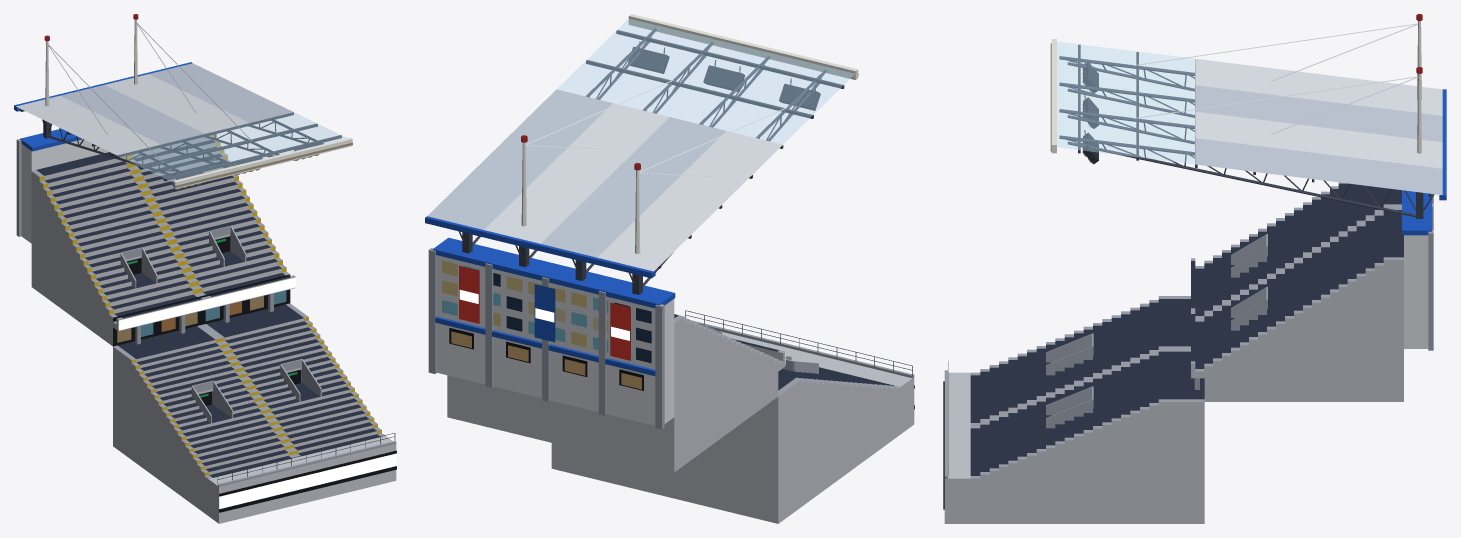
The model's file is stand-section.glb.
The picture shows the model from 3 angles, left to right: view 1: azimuth 30°, elevation 25°; view 2: azimuth 150°, elevation 25°; view 3: azimuth 270°, elevation 25°; orthographic projection. The views are drawn at different scales.
Parts seen in each view (by area): view 1: stand-section; view 2: stand-section; view 3: stand-section.
Boxes of the visible parts, <box> form: stand-section: <box>14,14,396,523</box>; stand-section: <box>425,14,914,523</box>; stand-section: <box>943,14,1446,523</box>.
Size of the model in its own units: 24.7 by 44 by 48.24.
5 materials, 3 textured.
